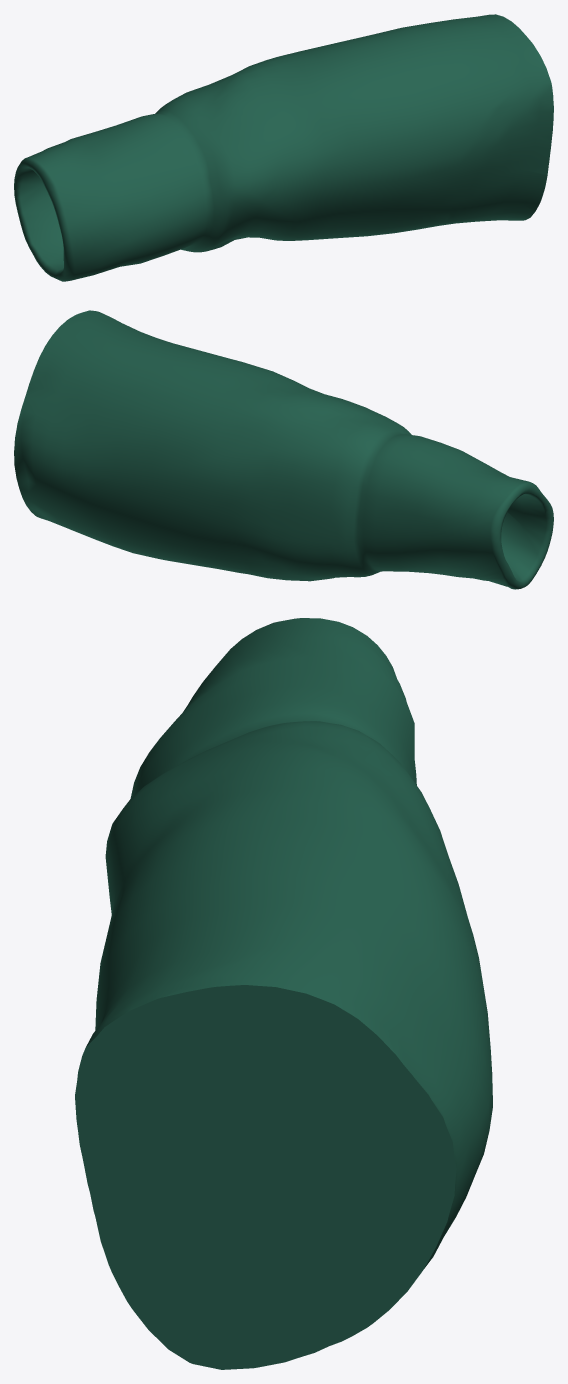
Rendered from lowerarm_r.fbx.
3 renders of one model, top to bottom at view 1: azimuth 30°, elevation 25°; view 2: azimuth 150°, elevation 25°; view 3: azimuth 270°, elevation 25°, orthographic. The views are drawn at different scales.
Parts seen in each view (by area): view 1: lowerarm_r-1; view 2: lowerarm_r-1; view 3: lowerarm_r-1.
Boxes of the visible parts, box(x1,y1,x2,y2) form: lowerarm_r-1: box(14, 14, 553, 281); lowerarm_r-1: box(14, 310, 553, 589); lowerarm_r-1: box(75, 618, 492, 1369).
Size of the model in its own units: 0.2322 by 0.0907 by 0.0924.
